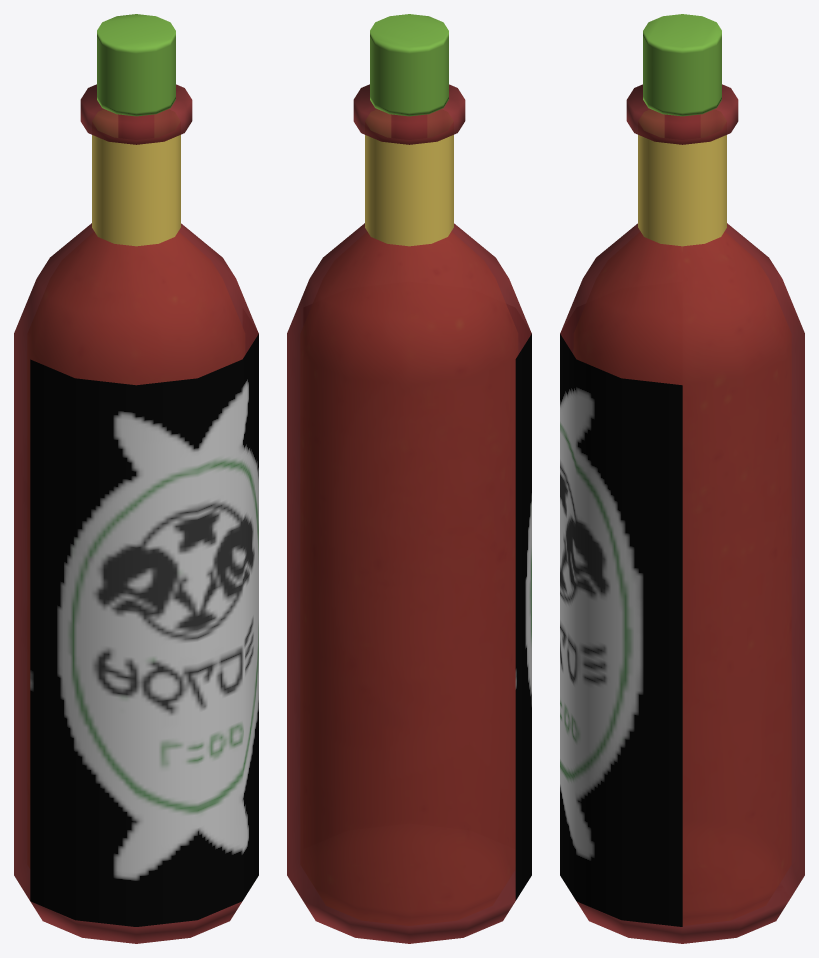
File: pi_chilisauce01.gltf
3 views of the same model, side by side, from view 1: azimuth 30°, elevation 25°; view 2: azimuth 150°, elevation 25°; view 3: azimuth 270°, elevation 25° (orthographic).
Visible parts, largest first — view 1: pi_chilisauce01_label01_mesh_shape:pi_chilisauce01_label, pi_chilisauce01_body01_mesh_shape:pi_chilisauce01_glass, pi_chilisauce01_sauce01_mesh_shape:pi_chilisauce01_sauce, pi_chilisauce01_bodylabel01_mesh_shape:pi_chilisauce01_lid, pi_chilisauce01_lid01_mesh_shape:pi_chilisauce01_lid, pi_chilisauce01_body02_mesh_shape:pi_chilisauce01_glass; view 2: pi_chilisauce01_body01_mesh_shape:pi_chilisauce01_glass, pi_chilisauce01_sauce01_mesh_shape:pi_chilisauce01_sauce, pi_chilisauce01_bodylabel01_mesh_shape:pi_chilisauce01_lid, pi_chilisauce01_label01_mesh_shape:pi_chilisauce01_label, pi_chilisauce01_lid01_mesh_shape:pi_chilisauce01_lid, pi_chilisauce01_body02_mesh_shape:pi_chilisauce01_glass; view 3: pi_chilisauce01_body01_mesh_shape:pi_chilisauce01_glass, pi_chilisauce01_label01_mesh_shape:pi_chilisauce01_label, pi_chilisauce01_sauce01_mesh_shape:pi_chilisauce01_sauce, pi_chilisauce01_bodylabel01_mesh_shape:pi_chilisauce01_lid, pi_chilisauce01_lid01_mesh_shape:pi_chilisauce01_lid, pi_chilisauce01_body02_mesh_shape:pi_chilisauce01_glass.
Part boxes in pixels (left/top/right/bottom): pi_chilisauce01_label01_mesh_shape:pi_chilisauce01_label: left=30, top=333, right=258, bottom=926; pi_chilisauce01_body01_mesh_shape:pi_chilisauce01_glass: left=14, top=84, right=258, bottom=943; pi_chilisauce01_sauce01_mesh_shape:pi_chilisauce01_sauce: left=28, top=232, right=244, bottom=866; pi_chilisauce01_bodylabel01_mesh_shape:pi_chilisauce01_lid: left=92, top=110, right=180, bottom=246; pi_chilisauce01_lid01_mesh_shape:pi_chilisauce01_lid: left=97, top=14, right=175, bottom=116; pi_chilisauce01_body02_mesh_shape:pi_chilisauce01_glass: left=119, top=115, right=153, bottom=139; pi_chilisauce01_body01_mesh_shape:pi_chilisauce01_glass: left=287, top=84, right=531, bottom=943; pi_chilisauce01_sauce01_mesh_shape:pi_chilisauce01_sauce: left=301, top=232, right=517, bottom=925; pi_chilisauce01_bodylabel01_mesh_shape:pi_chilisauce01_lid: left=365, top=110, right=453, bottom=246; pi_chilisauce01_label01_mesh_shape:pi_chilisauce01_label: left=515, top=333, right=531, bottom=900; pi_chilisauce01_lid01_mesh_shape:pi_chilisauce01_lid: left=370, top=14, right=448, bottom=116; pi_chilisauce01_body02_mesh_shape:pi_chilisauce01_glass: left=392, top=115, right=426, bottom=139; pi_chilisauce01_body01_mesh_shape:pi_chilisauce01_glass: left=560, top=84, right=804, bottom=943; pi_chilisauce01_label01_mesh_shape:pi_chilisauce01_label: left=560, top=333, right=682, bottom=926; pi_chilisauce01_sauce01_mesh_shape:pi_chilisauce01_sauce: left=574, top=232, right=790, bottom=925; pi_chilisauce01_bodylabel01_mesh_shape:pi_chilisauce01_lid: left=638, top=110, right=726, bottom=246; pi_chilisauce01_lid01_mesh_shape:pi_chilisauce01_lid: left=643, top=14, right=721, bottom=116; pi_chilisauce01_body02_mesh_shape:pi_chilisauce01_glass: left=665, top=115, right=699, bottom=139.
Bounding box in the file's own units: 0.0542 × 0.2115 × 0.0541.
4 materials, 4 textured.
